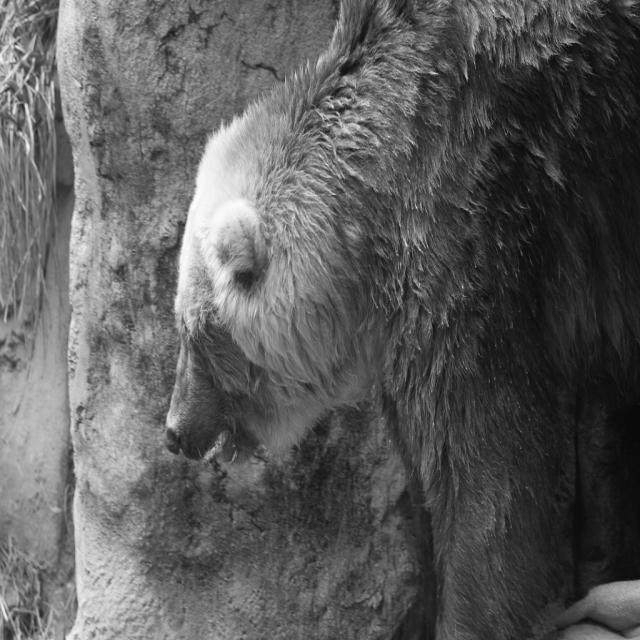Cheetahs: (164, 0, 639, 639)
